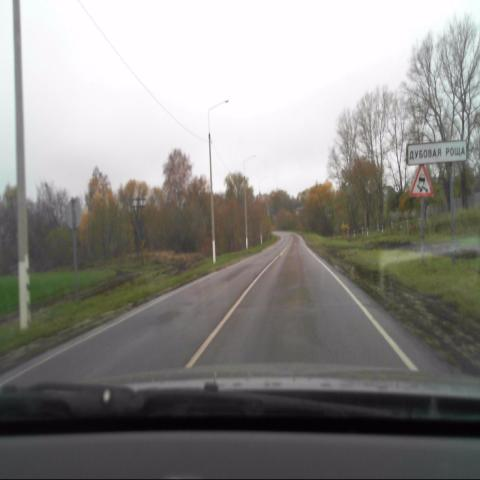1_15: (407, 164, 433, 196)
